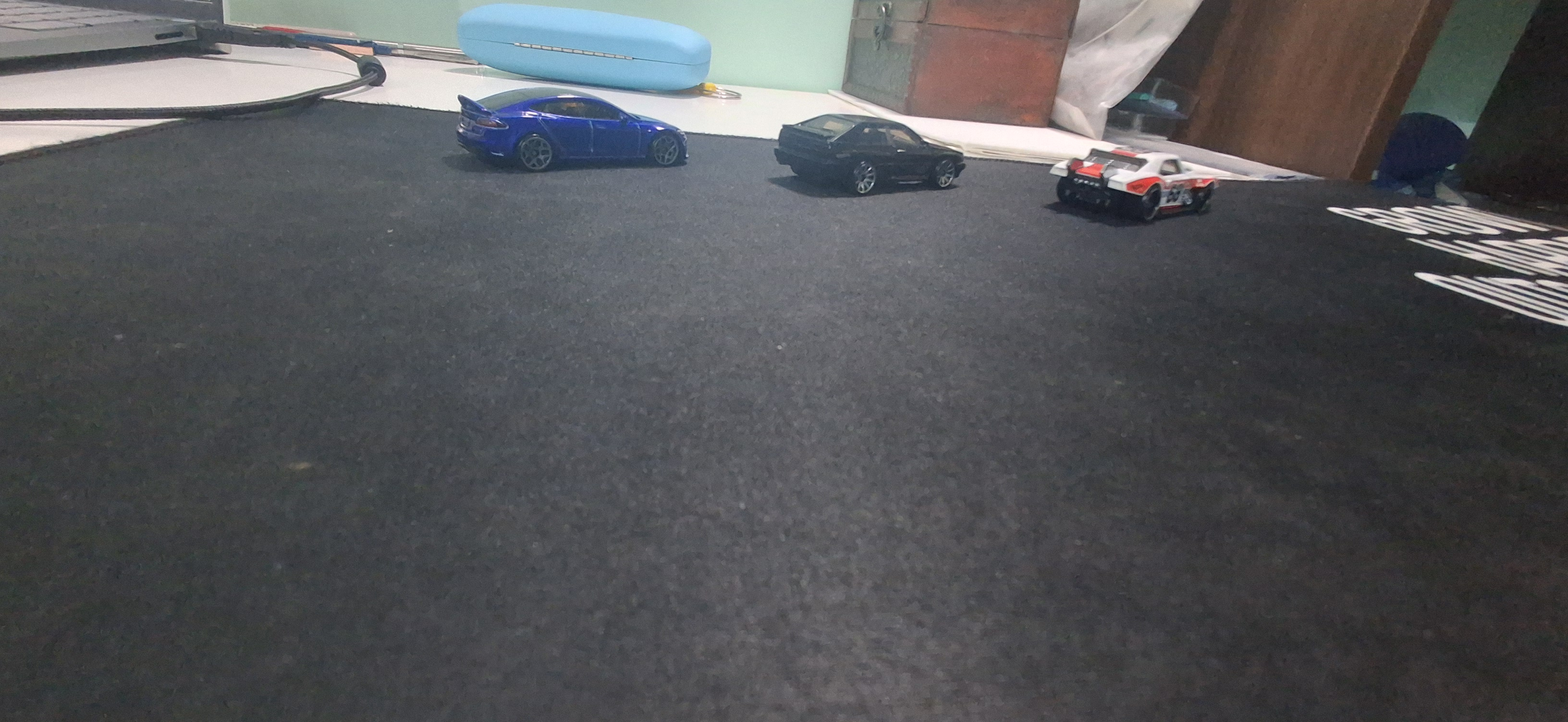Audi_Quattro: (761, 100, 982, 219)
Camaro: (1034, 132, 1242, 233)
Tesla_Model_S_Plaid: (434, 72, 691, 215)
